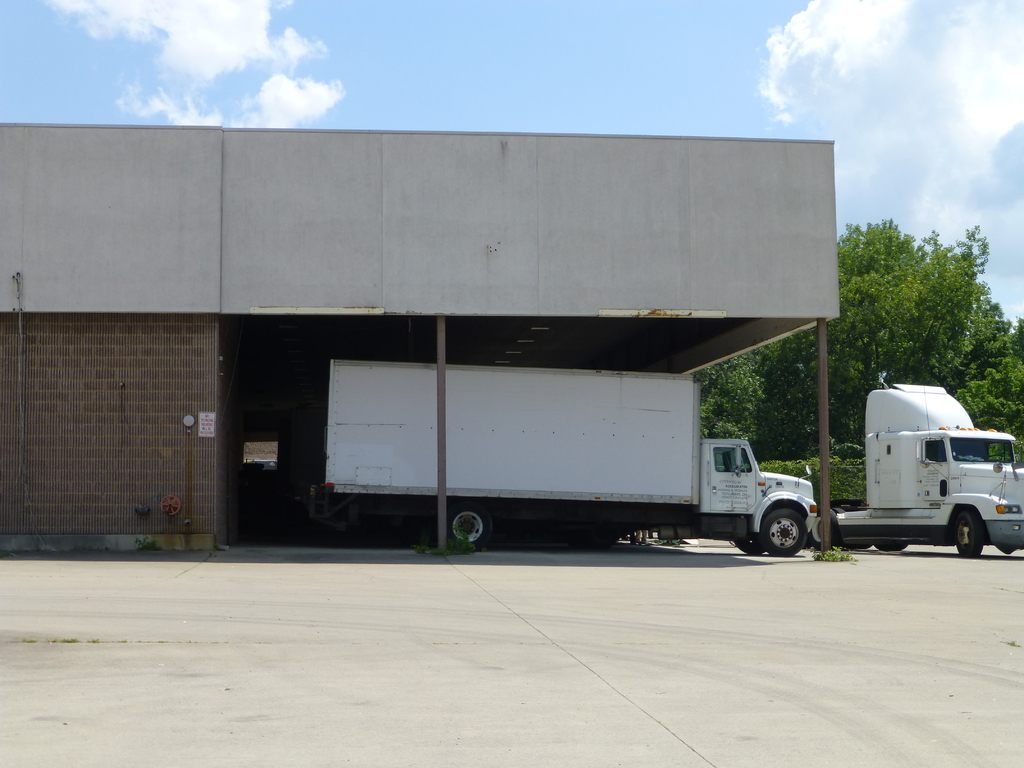truck: (293, 339, 828, 561), (802, 363, 1024, 572)
